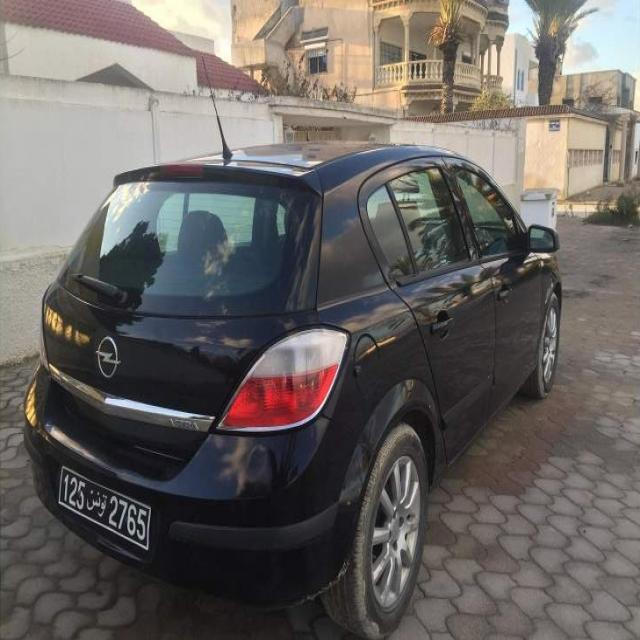licence plate: (58, 466, 150, 550)
